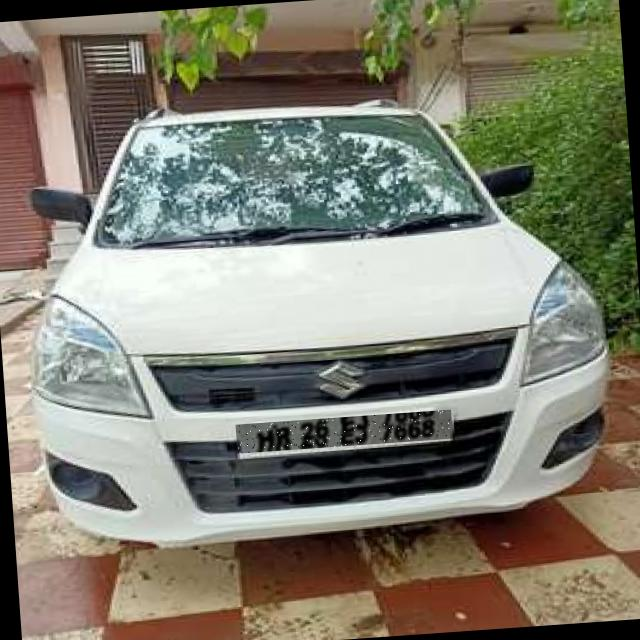Plate: (237, 410, 454, 454)
